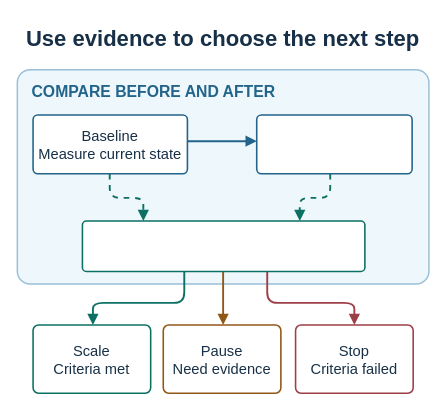
Some shapes in this 446 by 411 pixel diagram are drawn without their labels. The centre of each missing label's shape, as x and y in pixels:
KPI and ROI Use consistent definitions: the point at 223,246
Pilot Test in a limited scope: the point at 333,144
